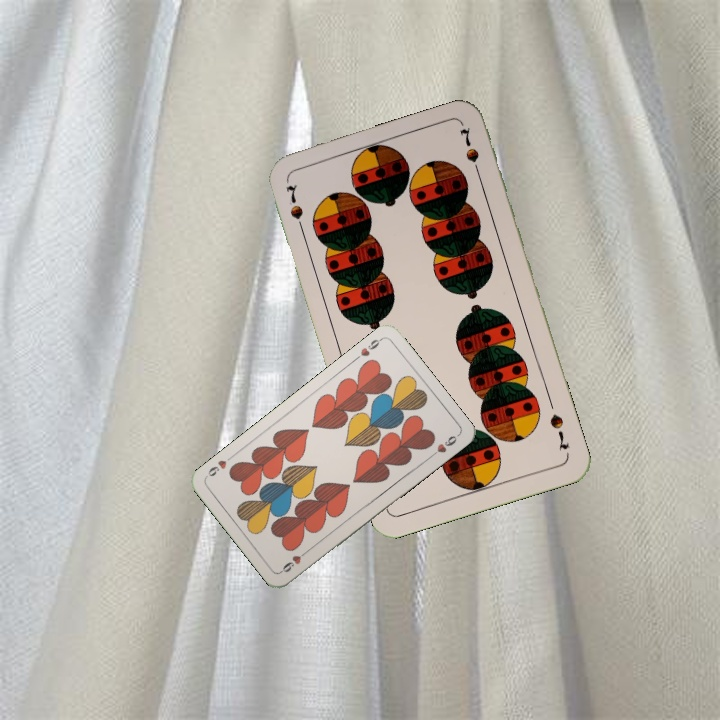H9: (277, 546, 312, 575), (350, 334, 385, 363)
S7: (281, 181, 307, 236), (545, 410, 572, 454)
